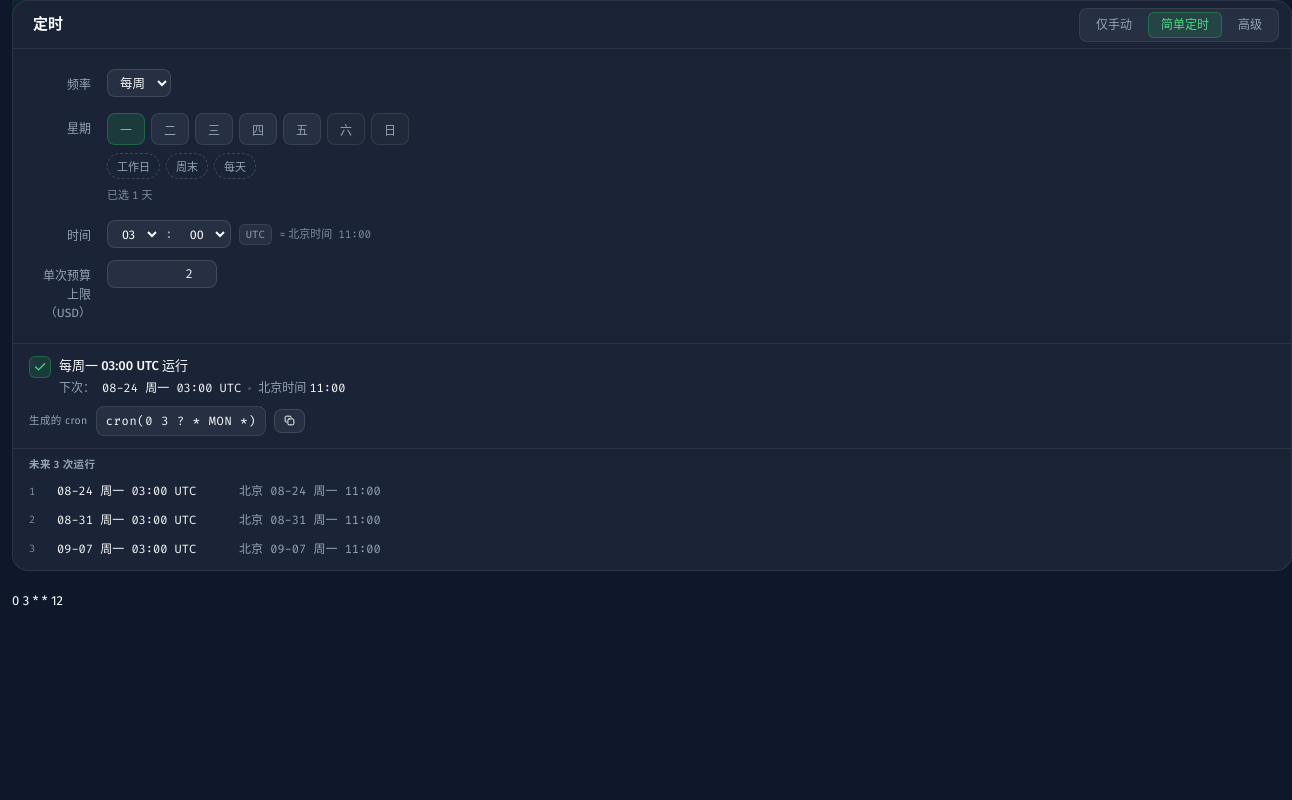
Test: SchedulePicker：简单档 › 时间选择 + 北京时间回显；23:30 UTC 显示（次日）且预览带跨日徽标
The image size is (1292, 800).
Expected: the text with test id "sched-bj-echo" reads "11:00", x1=338 y1=226 x2=371 y2=242
Select "23" in the dropdown with test id "sched-hour": (135, 234) x1=110 y1=223 x2=160 y2=245
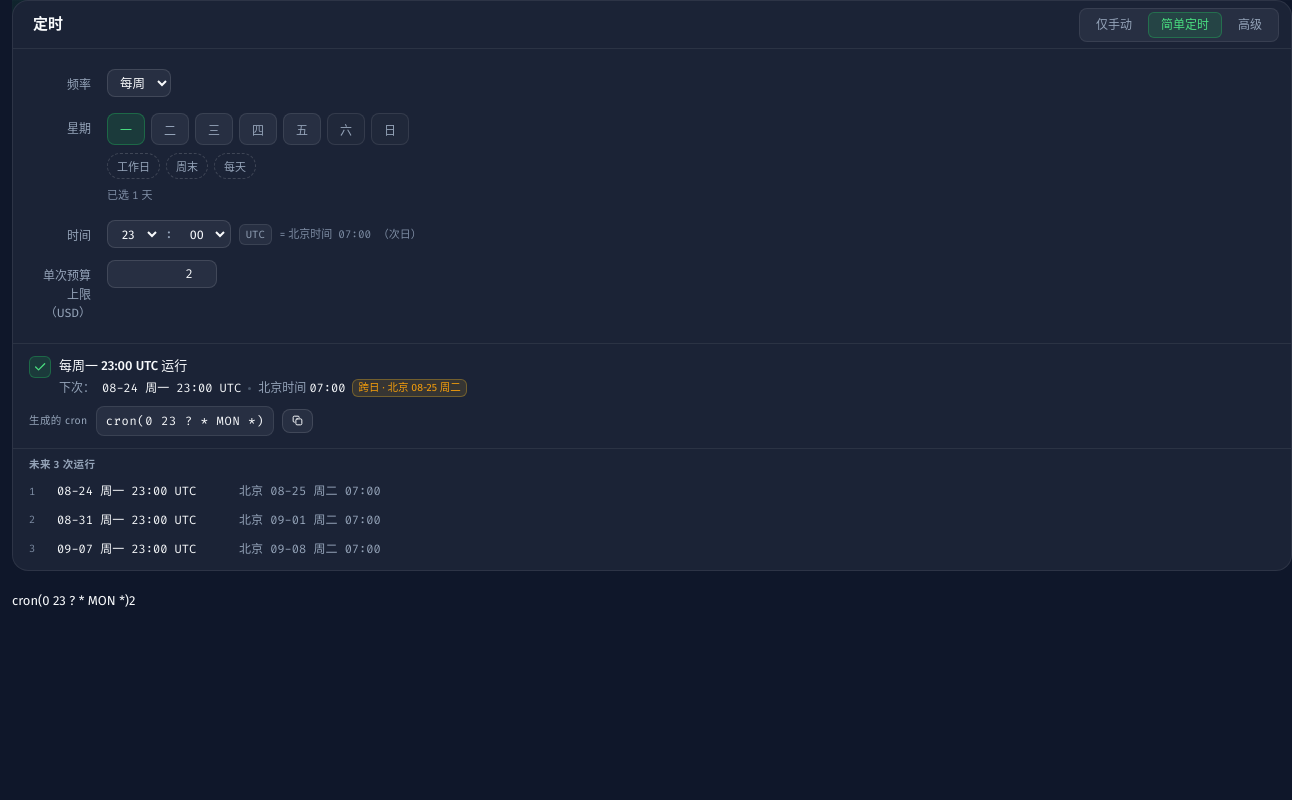
Select "30" in the dropdown with test id "sched-min": (203, 234) x1=178 y1=223 x2=228 y2=245
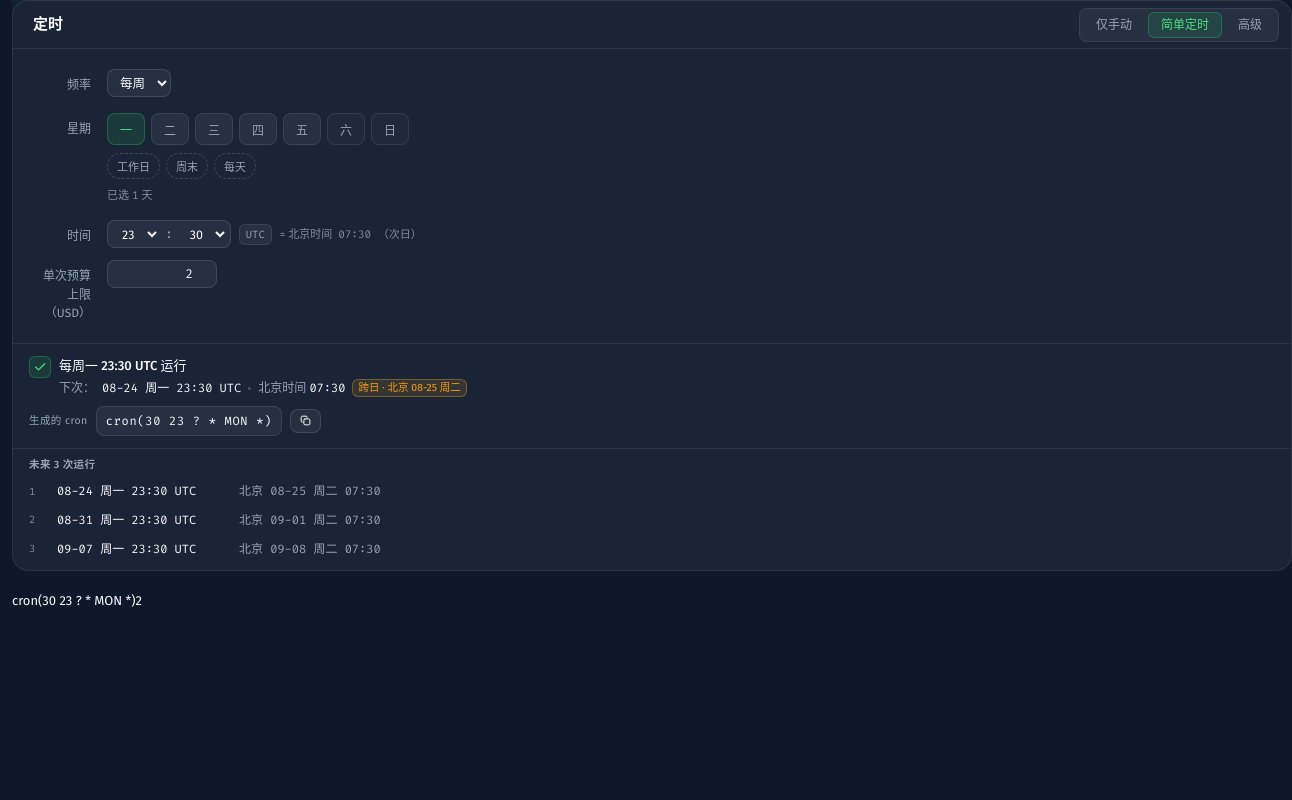
Expected: the text with test id "sched-crossday" reads "跨日 · 北京 08-25 周二", x1=352 y1=379 x2=467 y2=397
Expected: the text "cron(30 23 ? * MON *)" next to "生成的 cron" is shown, x1=106 y1=413 x2=272 y2=429
Expected: the text with test id "sched-bj-echo" reads "07:30 （次日）", x1=338 y1=226 x2=422 y2=242
